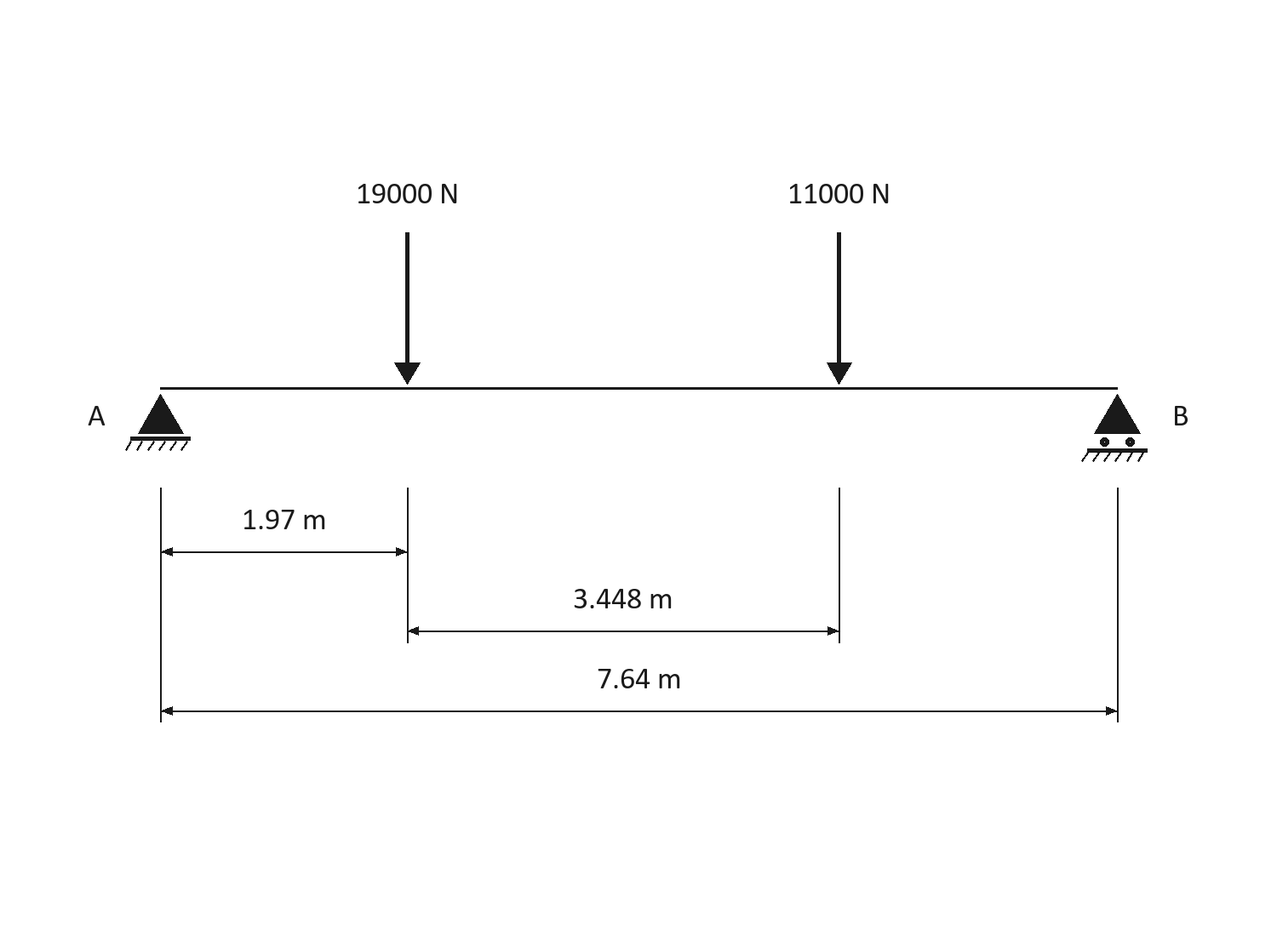pin_support: (125, 394, 191, 451)
point_load: (394, 232, 421, 385), (827, 232, 852, 385)
roller_support: (1081, 394, 1148, 462)
